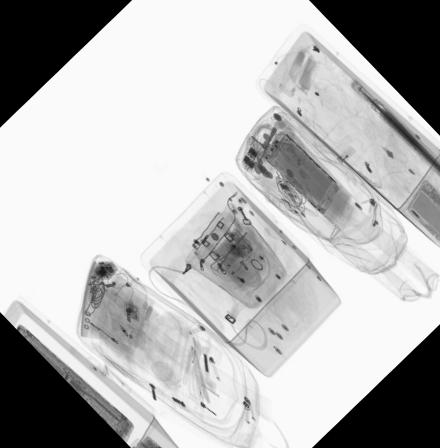Lighter: (333, 144, 356, 166)
